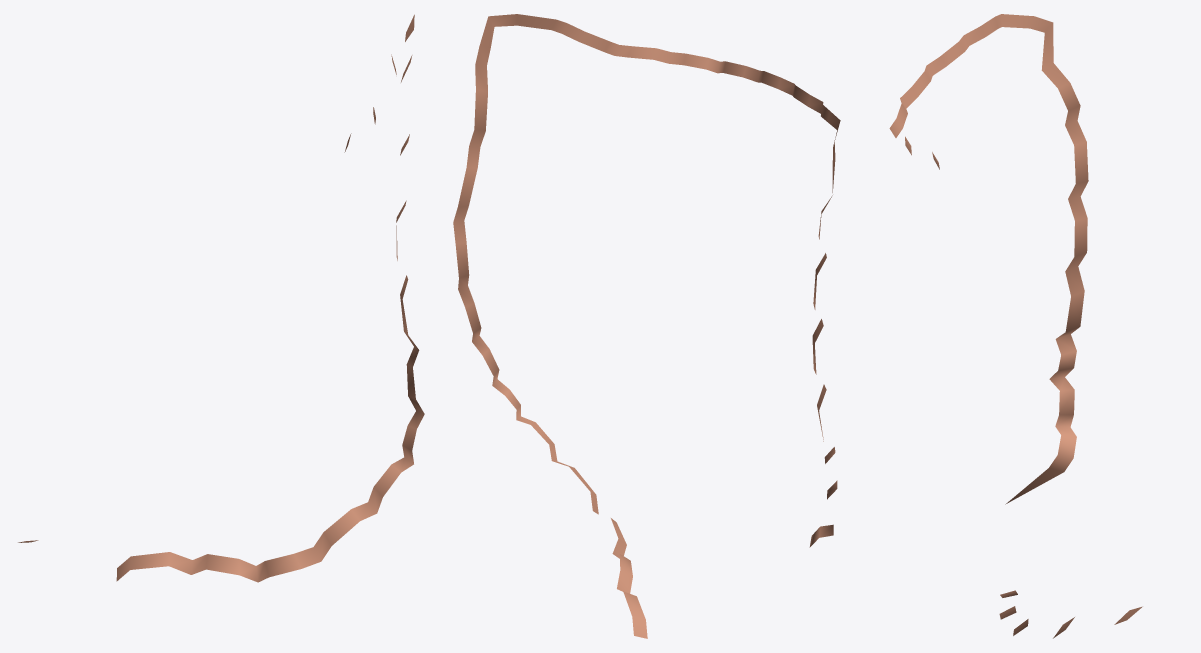
The model's file is free-taenia.glb.
3 renders of one model, left to right at view 1: azimuth 30°, elevation 25°; view 2: azimuth 150°, elevation 25°; view 3: azimuth 270°, elevation 25°, orthographic. The views are drawn at different scales.
Parts seen in each view (by area): view 1: Free taenia; view 2: Free taenia; view 3: Free taenia.
Part boxes in pixels (box(x1,y1,x2,y2)): Free taenia: box(18, 14, 424, 582); Free taenia: box(453, 14, 840, 638); Free taenia: box(889, 14, 1142, 638).
Size of the model in its own units: 0.1511 by 0.2026 by 0.0937.
